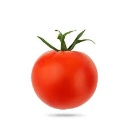tomato: (31, 49, 98, 110)
